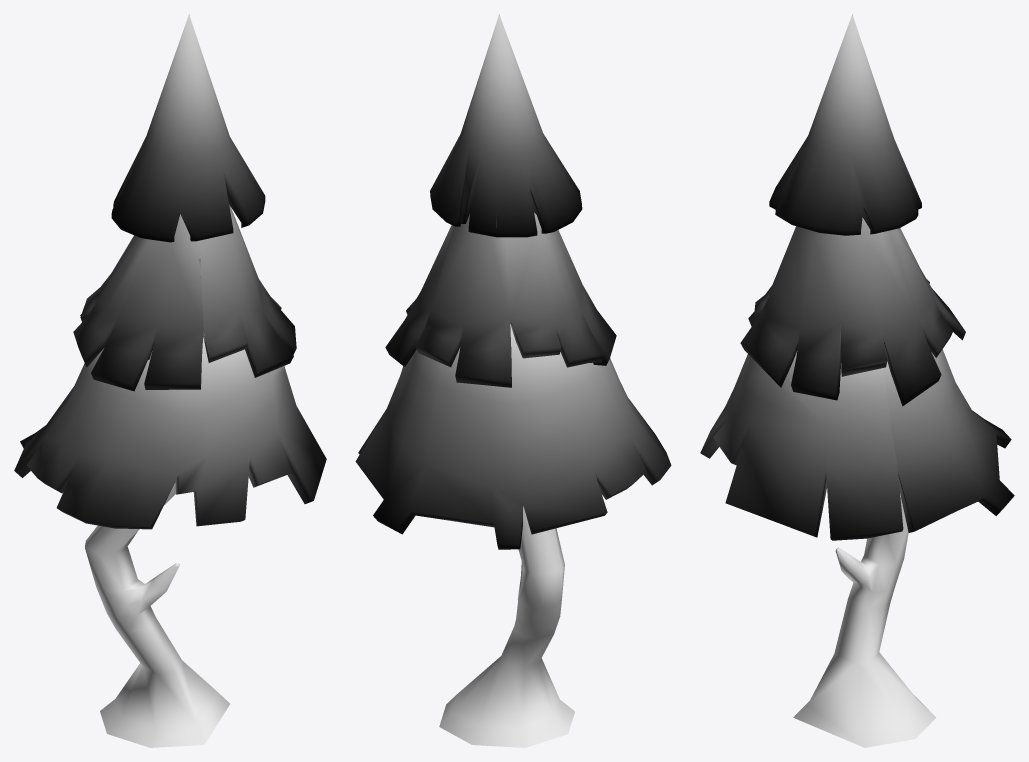
File: Tree_mid_1_LOD_1v2.fbx
3 renders of one model, left to right at view 1: azimuth 30°, elevation 25°; view 2: azimuth 150°, elevation 25°; view 3: azimuth 270°, elevation 25°, orthographic.
Visible parts, largest first — view 1: Tree_mid_1; view 2: Tree_mid_1; view 3: Tree_mid_1.
Boxes of the visible parts, box(x1,y1,x2,y2) form: Tree_mid_1: box(14, 14, 326, 747); Tree_mid_1: box(355, 14, 671, 747); Tree_mid_1: box(700, 14, 1014, 747).
Size of the model in its own units: 55.84 by 140 by 56.2.
Materials: 2 (1 with a texture image).
